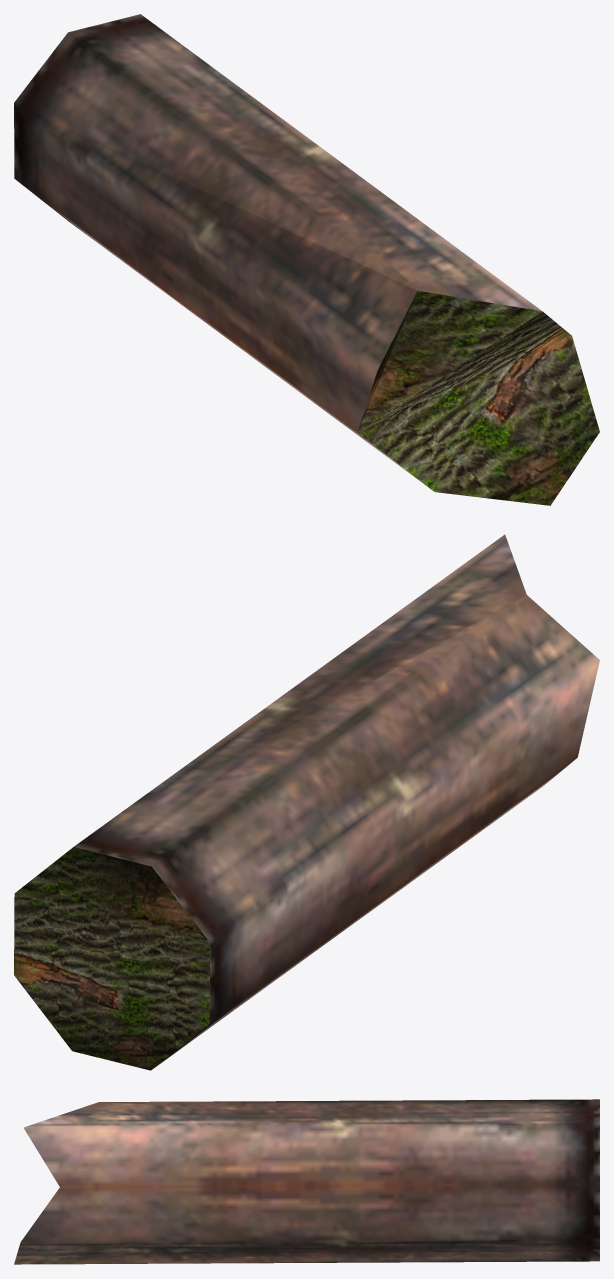
File: S_RFCyl7.glb
3 renders of one model, top to bottom at view 1: azimuth 30°, elevation 25°; view 2: azimuth 150°, elevation 25°; view 3: azimuth 270°, elevation 25°, orthographic. The views are drawn at different scales.
Parts seen in each view (by area): view 1: S_RFCyl7; view 2: S_RFCyl7; view 3: S_RFCyl7.
Part boxes in pixels (bbox=[...]): S_RFCyl7: bbox=[14, 14, 599, 505]; S_RFCyl7: bbox=[14, 534, 599, 1070]; S_RFCyl7: bbox=[14, 1099, 599, 1264].
Size of the model in its own units: 0.5037 by 0.5105 by 1.95.
2 materials, 2 textured.
